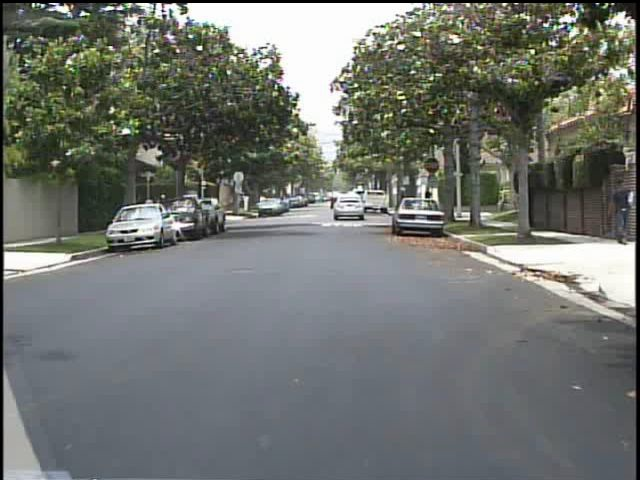person: (605, 177, 634, 250), (144, 193, 161, 229), (420, 184, 437, 215)
